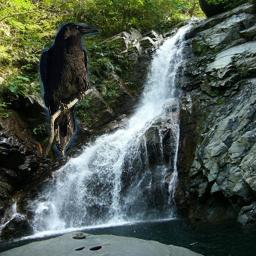Crow: (39, 22, 100, 159)
